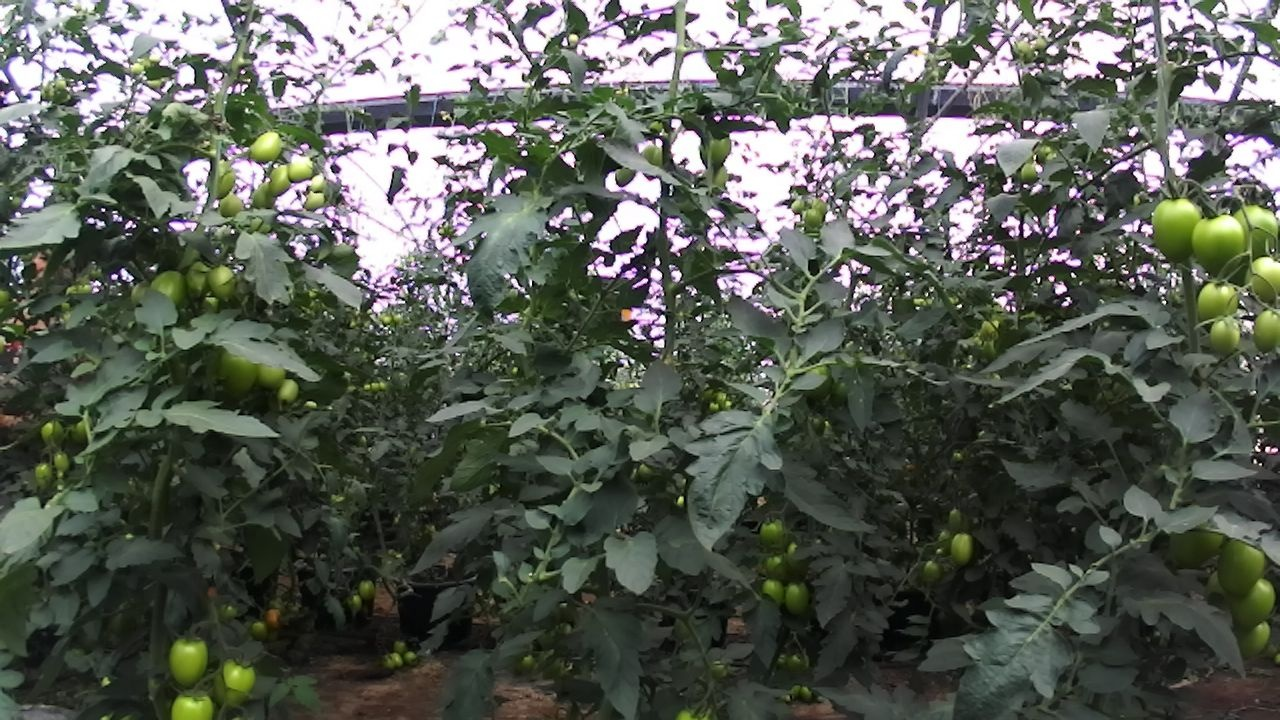tomato: (1180, 208, 1252, 283), (1144, 194, 1206, 273), (1213, 528, 1270, 606), (205, 646, 267, 714), (1164, 508, 1227, 572), (161, 626, 216, 698), (1226, 197, 1280, 266), (1227, 568, 1278, 635), (141, 260, 195, 319), (1191, 278, 1245, 337), (216, 343, 264, 407), (159, 680, 226, 720), (1225, 616, 1277, 663), (1238, 253, 1280, 307), (242, 122, 289, 170), (1245, 303, 1280, 365), (1203, 309, 1245, 359), (694, 125, 736, 174), (201, 260, 244, 306), (179, 255, 219, 304), (201, 157, 238, 202), (754, 512, 793, 552), (252, 355, 291, 394), (778, 578, 814, 620), (262, 160, 299, 199), (946, 527, 978, 572), (755, 576, 790, 616), (281, 151, 320, 186), (36, 417, 71, 452), (272, 374, 305, 407), (214, 191, 246, 221), (298, 188, 330, 217), (1013, 157, 1043, 187), (30, 460, 57, 489), (800, 203, 827, 231), (920, 557, 946, 585), (246, 617, 271, 646), (341, 590, 367, 616), (261, 605, 286, 631), (49, 449, 73, 475), (354, 577, 378, 602), (387, 650, 409, 670), (391, 637, 412, 656), (400, 649, 422, 667)
